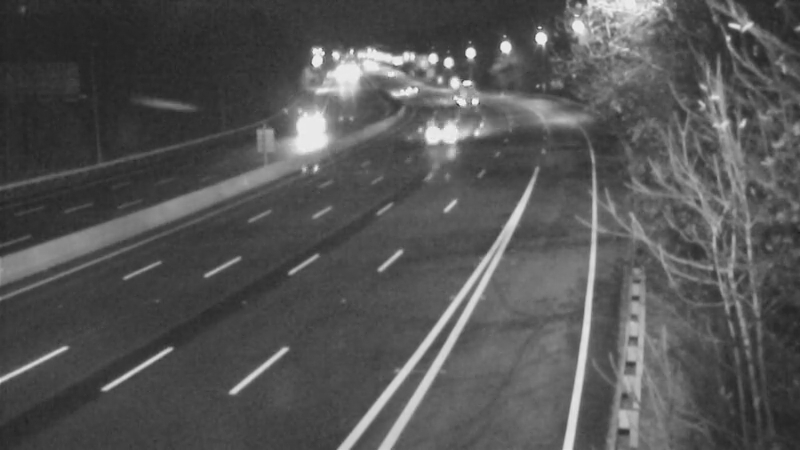vehicle: (386, 65, 436, 115), (372, 68, 422, 118), (434, 67, 484, 117), (423, 105, 473, 155), (282, 103, 332, 153)
